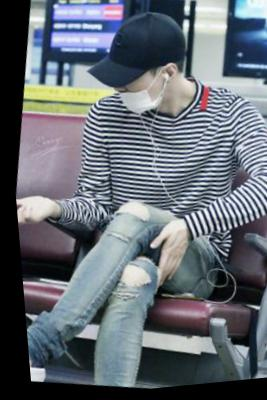WRONG: (106, 66, 156, 123)
